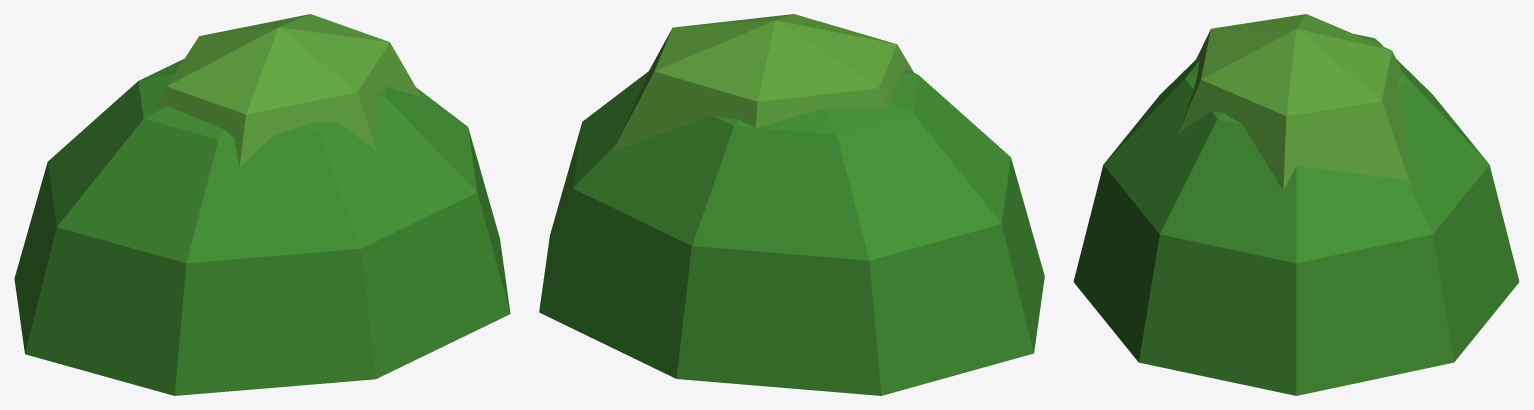
File: semak_teh.glb
3 renders of one model, left to right at view 1: azimuth 30°, elevation 25°; view 2: azimuth 150°, elevation 25°; view 3: azimuth 270°, elevation 25°, orthographic. The views are drawn at different scales.
Parts seen in each view (by area): view 1: body; view 2: body; view 3: body.
Boxes of the visible parts, <box> form: body: <box>14,14,510,395</box>; body: <box>539,14,1044,395</box>; body: <box>1073,14,1519,395</box>.
Size of the model in its own units: 1.5 by 0.8 by 1.24.
1 material, 1 textured.
